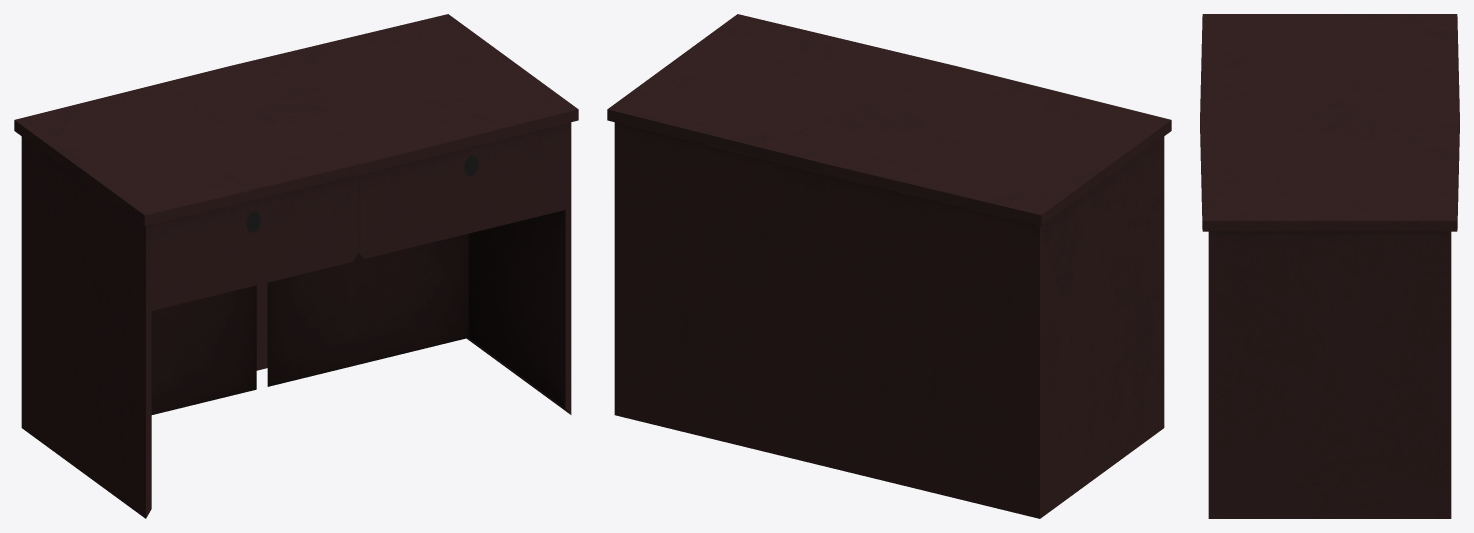
File: CabinetShort.001.fbx
3 views of the same model, side by side, from view 1: azimuth 30°, elevation 25°; view 2: azimuth 150°, elevation 25°; view 3: azimuth 270°, elevation 25° (orthographic). The views are drawn at different scales.
Visible parts, largest first — view 1: CabinetShort.001; view 2: CabinetShort.001; view 3: CabinetShort.001.
Part boxes in pixels (box(x1,y1,x2,y2)): CabinetShort.001: box(14, 14, 578, 518); CabinetShort.001: box(607, 14, 1171, 518); CabinetShort.001: box(1200, 14, 1459, 518).
Bounding box in the file's own units: 161 × 109 × 85.68.
1 material, 1 textured.
